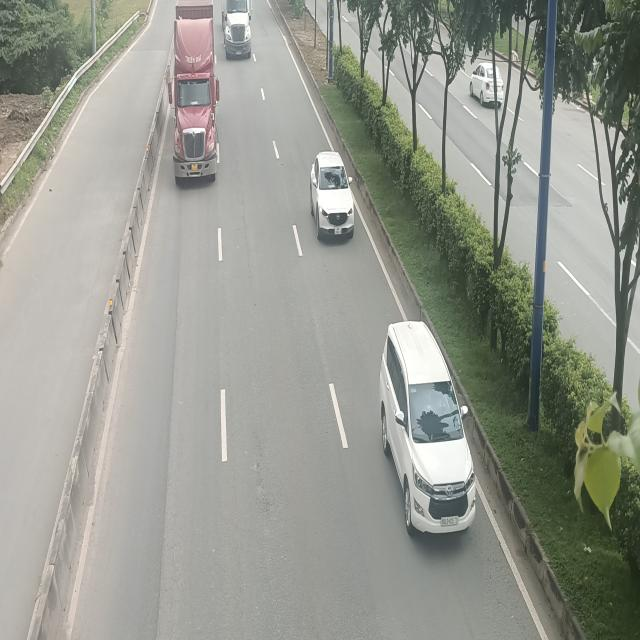car: (378, 322, 477, 536), (310, 150, 355, 241)
container: (168, 0, 219, 180), (221, 0, 254, 58)
